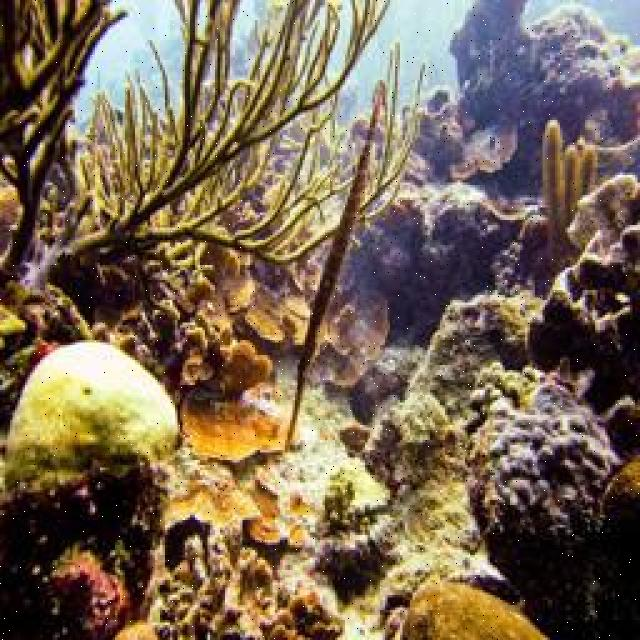reefs: (0, 340, 179, 498), (478, 360, 625, 539), (539, 120, 600, 249)
